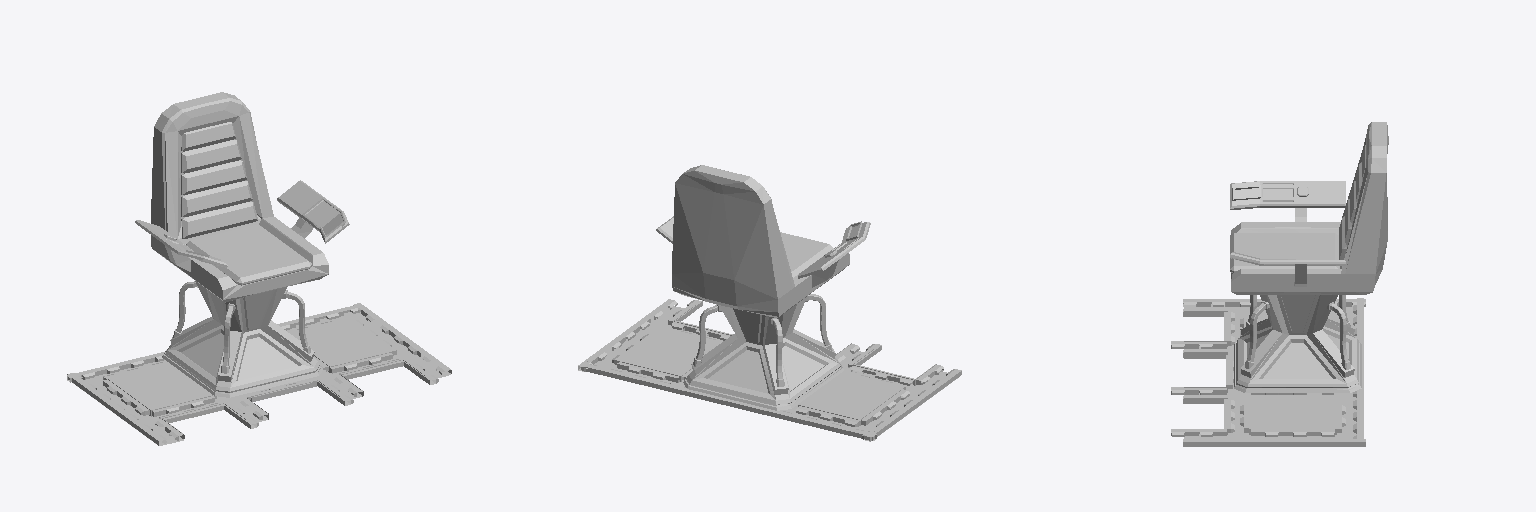
The model's file is cadeira.obj.
3 views of the same model, side by side, from view 1: azimuth 30°, elevation 25°; view 2: azimuth 150°, elevation 25°; view 3: azimuth 270°, elevation 25° (orthographic).
Parts seen in each view (by area): view 1: Control.002; view 2: Control.002; view 3: Control.002.
Part boxes in pixels (x1,y1,x2,y2): Control.002: (67,92,451,445); Control.002: (578,165,961,441); Control.002: (1171,122,1388,446).
Bounding box in the file's own units: 257 × 200 × 164.